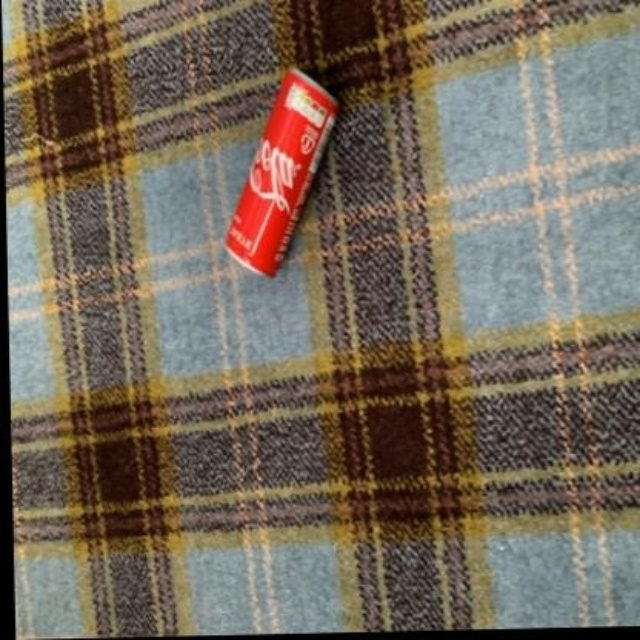trash: (225, 69, 337, 275)
